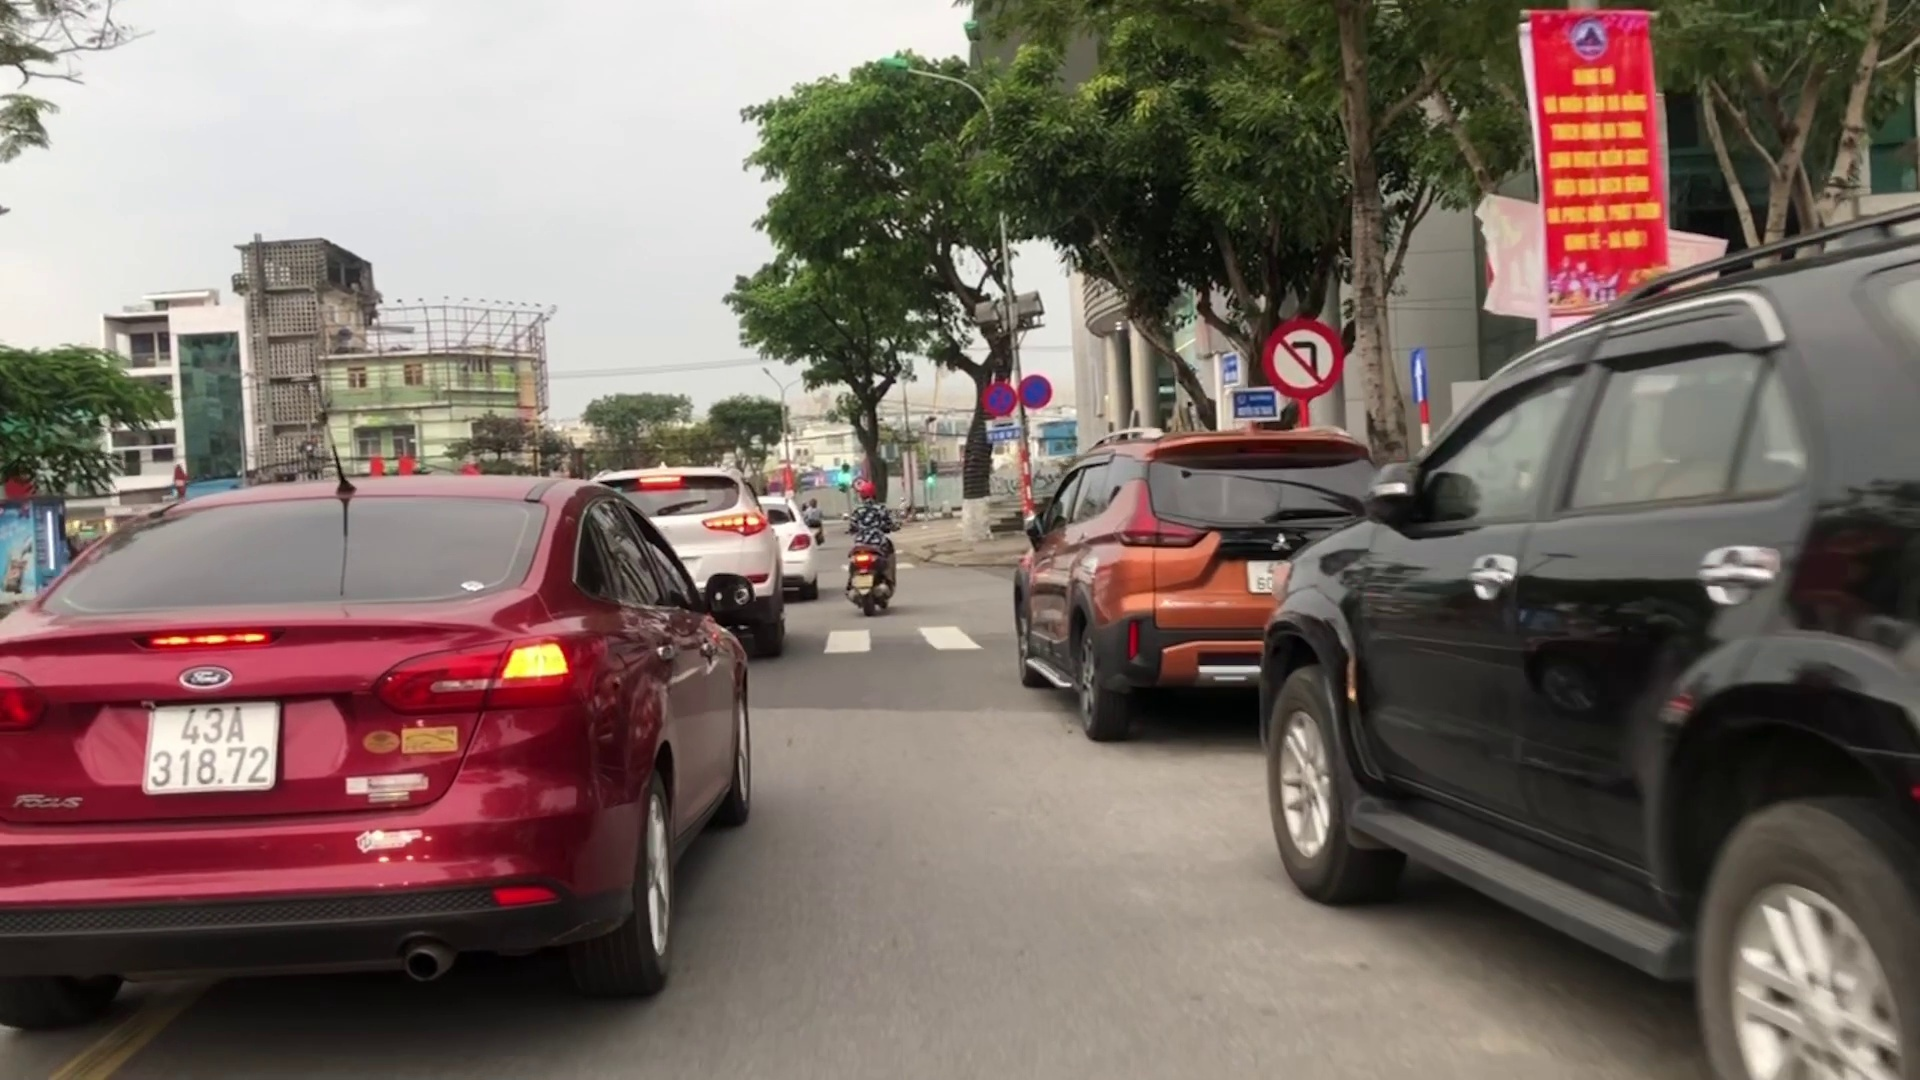Bien khac: (1263, 318, 1338, 405), (982, 380, 1014, 418)
Cam do xe: (1015, 375, 1048, 409)
